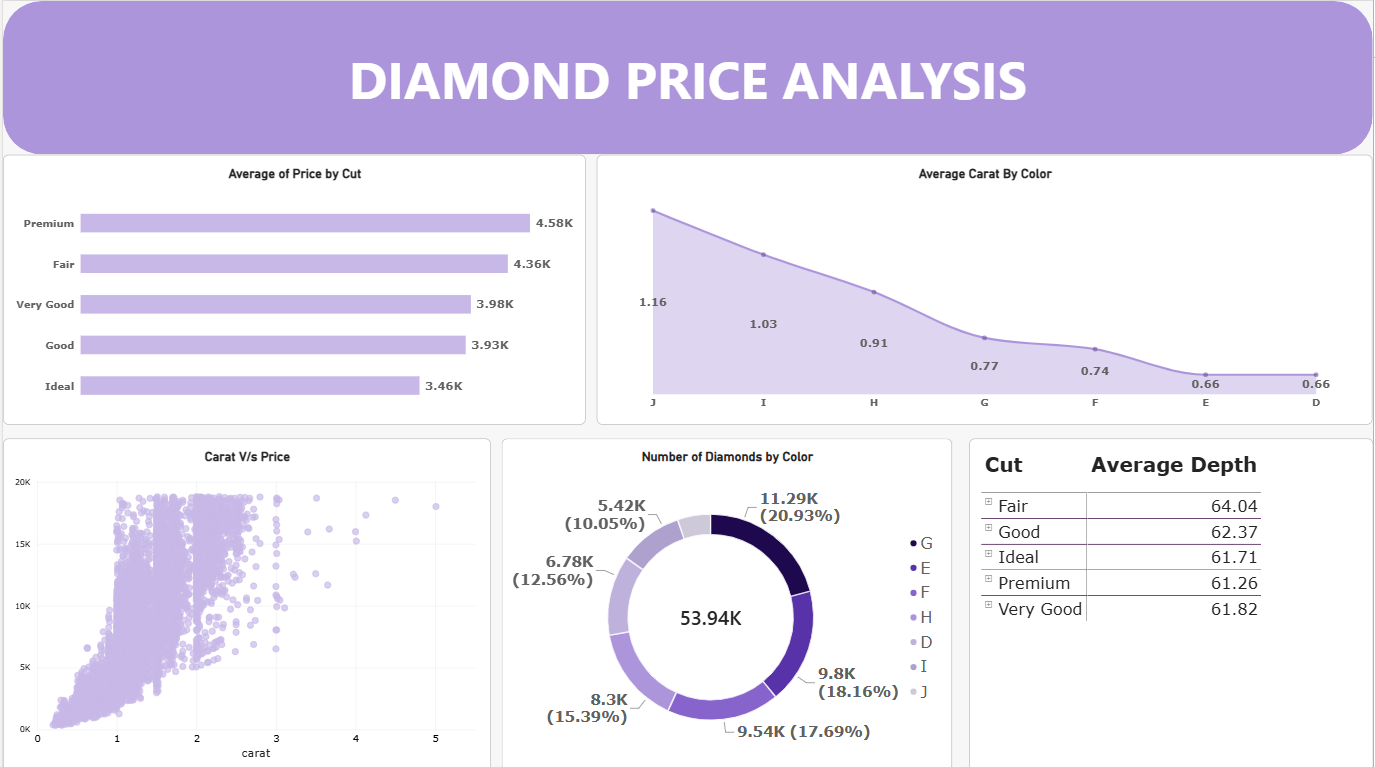

This screenshot's page, from the dashboard's own definition file:
{"tool":"powerbi","page":{"name":"Diamond_Data_Analysis_Report","canvas":[1920,1080],"ordinal":0},"visuals":[{"type":"shape","box":[0,0,1920,215],"z":0},{"type":"barChart","title":"Average of Price by Cut","fields":{"Category":["Diamonds.cut"],"Y":["Diamonds.Average Price"]},"box":[0,215.7,816.8,378.6],"z":1000},{"type":"scatterChart","title":"Carat V/s Price","fields":{"X":["Diamonds.carat"],"Y":["Diamonds.price"]},"box":[0,612.6,683.8,465.8],"z":2000},{"type":"donutChart","title":"Number of Diamonds  by Color","fields":{"Category":["Diamonds.color"],"Y":["CountNonNull(Diamonds.color)"]},"box":[704.6,614.2,631,465.8],"z":3000},{"type":"stackedAreaChart","title":"Average Carat By Color","fields":{"Category":["Diamonds.color"],"Y":["Diamonds.Average Carat"]},"box":[832.5,215.1,1087.6,378.6],"z":4000},{"type":"pivotTable","fields":{"Rows":["Diamonds.cut","Diamonds.color"],"Values":["Avg(Diamonds.depth)"]},"box":[1353.7,612.6,566.7,465.8],"z":5000}]}

Visuals, with their boxes in screenshot pixels (x1, y1, x2, y2), scaled from the page's 1920x1080 canvas onto the 1375x767 screenshot:
shape: pyautogui.locateOnScreen(0, 0, 1374, 153)
"Average of Price by Cut" barChart: pyautogui.locateOnScreen(0, 153, 585, 422)
"Carat V/s Price" scatterChart: pyautogui.locateOnScreen(0, 435, 490, 766)
"Number of Diamonds  by Color" donutChart: pyautogui.locateOnScreen(505, 436, 956, 766)
"Average Carat By Color" stackedAreaChart: pyautogui.locateOnScreen(596, 153, 1374, 422)
pivotTable - Diamonds.cut x Diamonds.color: pyautogui.locateOnScreen(969, 435, 1374, 766)
